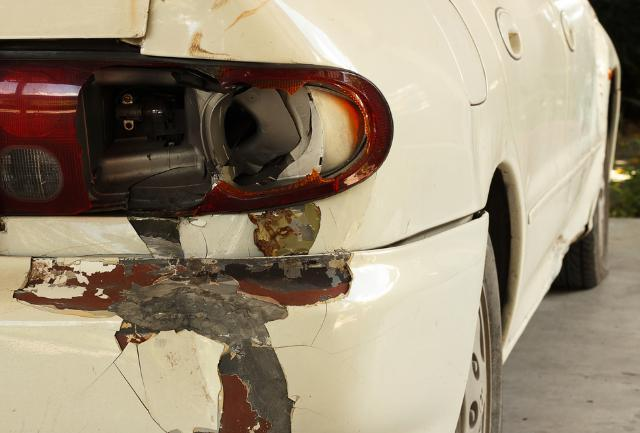Bumper: (0, 260, 348, 433)
Fender: (231, 199, 365, 257)
Light: (0, 55, 383, 221)
